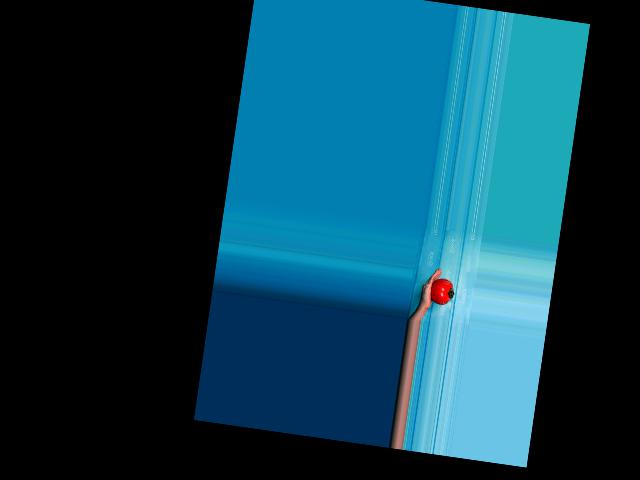tomato: (428, 276, 455, 305)
